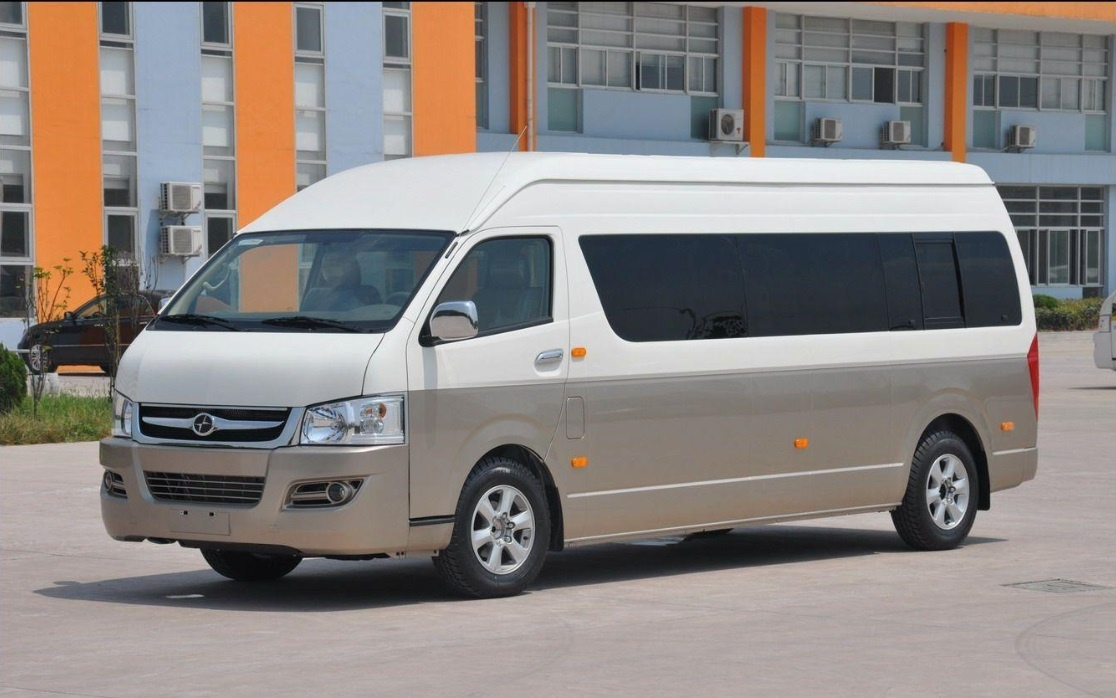minibus: (96, 140, 1077, 594)
